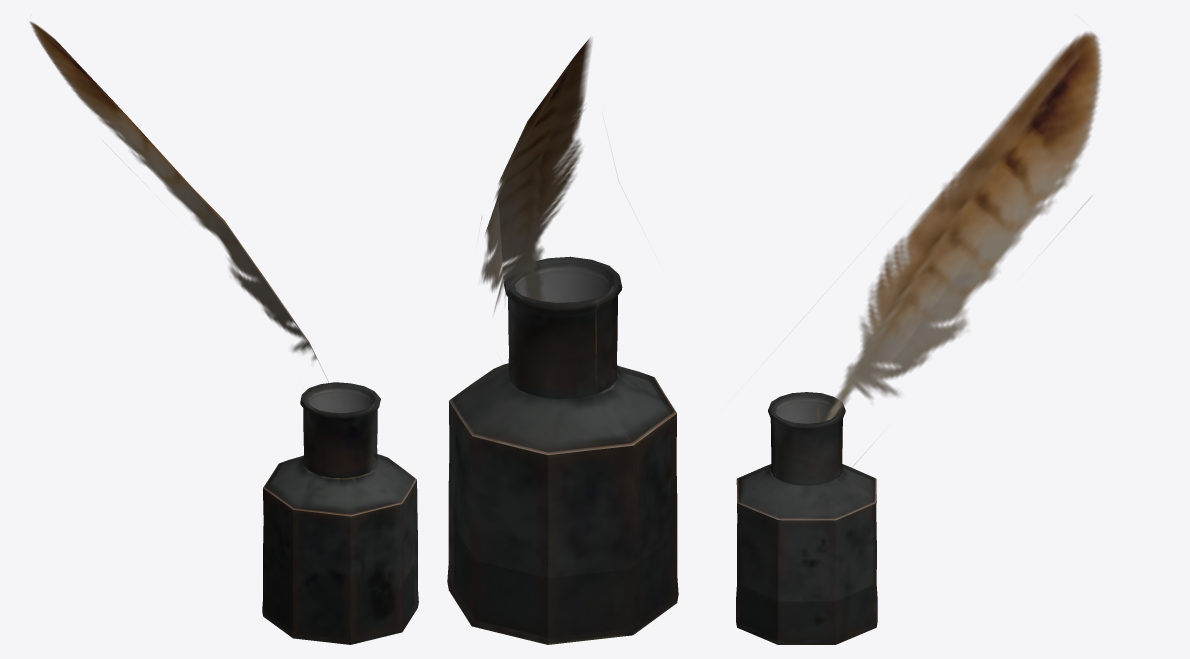
Rendered from ink-bottle-quill.glb.
3 renders of one model, left to right at view 1: azimuth 30°, elevation 25°; view 2: azimuth 150°, elevation 25°; view 3: azimuth 270°, elevation 25°, orthographic. The views are drawn at different scales.
Parts seen in each view (by area): view 1: ink-bottle-quill; view 2: ink-bottle-quill; view 3: ink-bottle-quill.
Boxes of the visible parts, box(x1,y1,x2,y2) form: ink-bottle-quill: box(29, 21, 418, 644); ink-bottle-quill: box(447, 37, 678, 644); ink-bottle-quill: box(736, 32, 1101, 644).
Size of the model in its own units: 0.07 by 0.1544 by 0.1258.
Materials: 1 (1 with a texture image).
